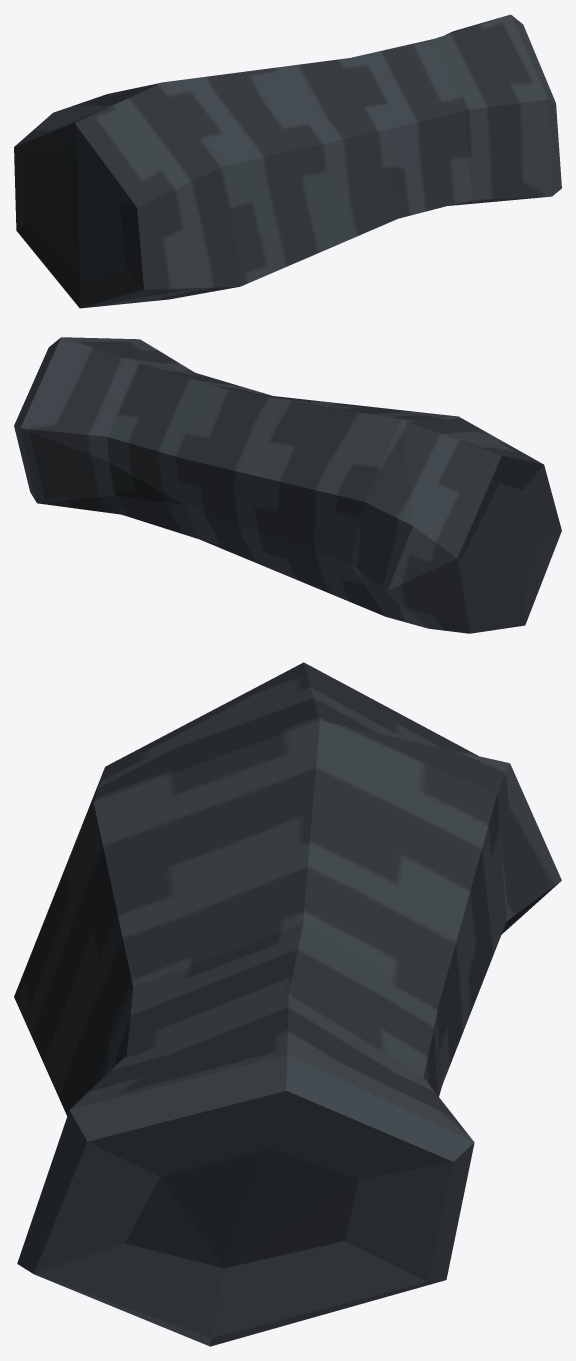
File: Chr_ArmLowerLeft_Male_17_Static.fbx
The picture shows the model from 3 angles, top to bottom: view 1: azimuth 30°, elevation 25°; view 2: azimuth 150°, elevation 25°; view 3: azimuth 270°, elevation 25°; orthographic projection. The views are drawn at different scales.
Visible parts, largest first — view 1: Chr_ArmLowerLeft_Male_17_Static; view 2: Chr_ArmLowerLeft_Male_17_Static; view 3: Chr_ArmLowerLeft_Male_17_Static.
Part boxes in pixels (left/top/right/bottom): Chr_ArmLowerLeft_Male_17_Static: left=14, top=14, right=561, bottom=308; Chr_ArmLowerLeft_Male_17_Static: left=14, top=337, right=561, bottom=633; Chr_ArmLowerLeft_Male_17_Static: left=14, top=662, right=561, bottom=1346.
Size of the model in its own units: 0.296 by 0.1221 by 0.16.
